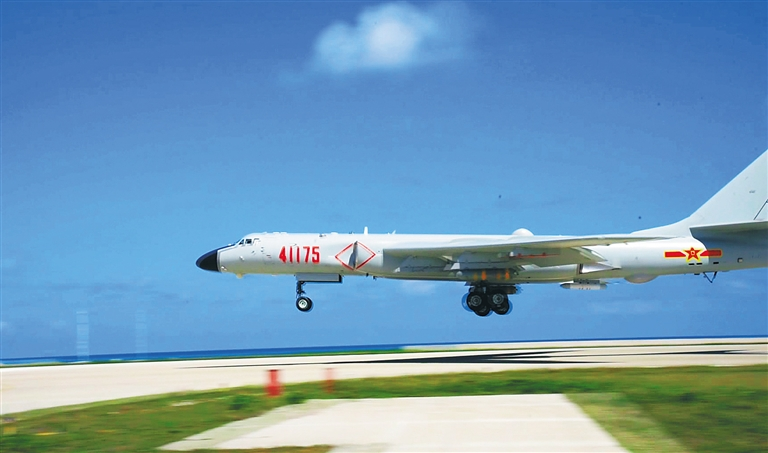airplane: (185, 147, 768, 320)
